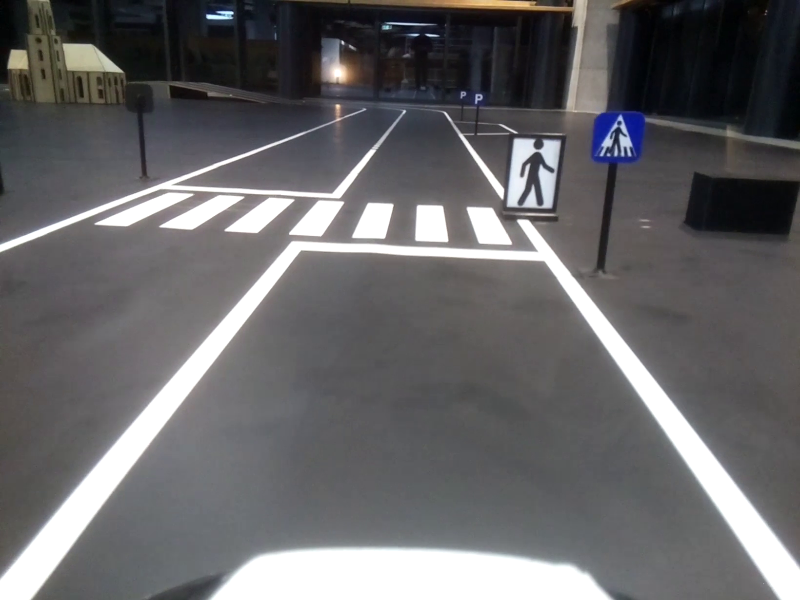pedestrians: (590, 110, 648, 161)
